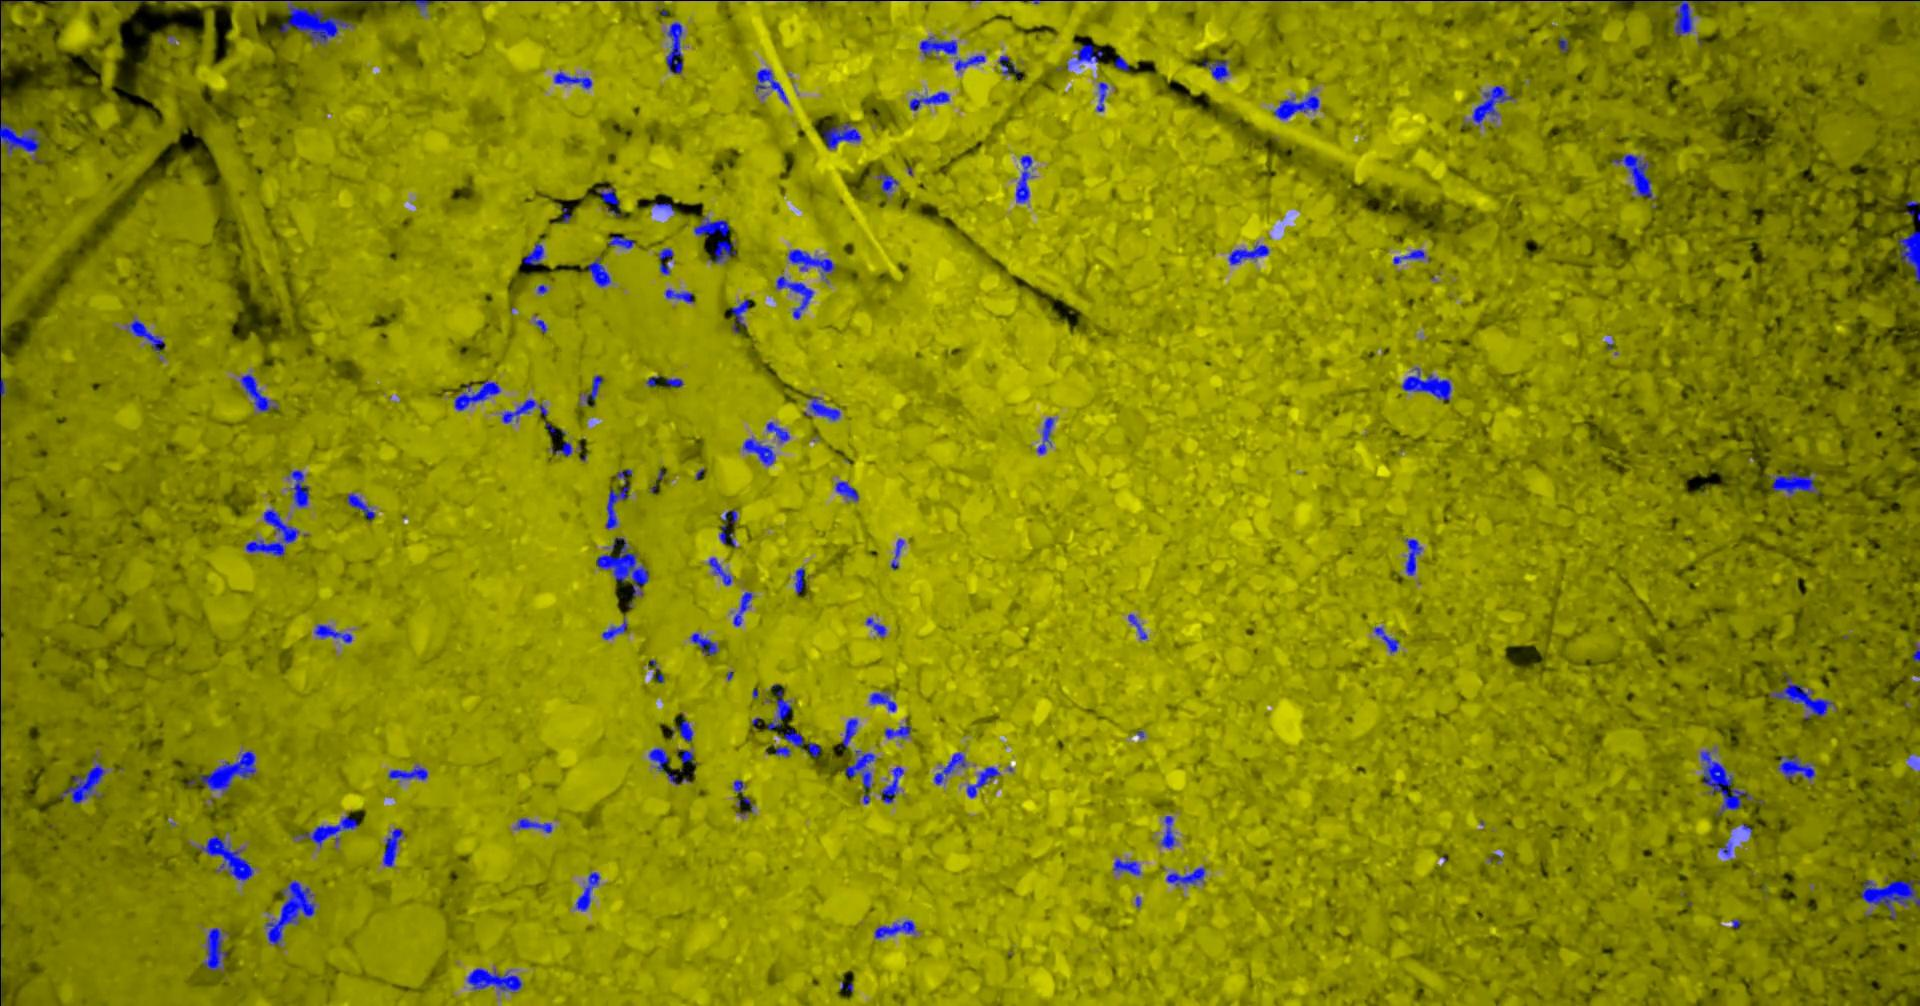ant: (1611, 0, 1719, 36), (1769, 676, 1832, 719), (244, 509, 298, 556), (199, 835, 253, 882), (199, 749, 255, 793), (58, 756, 105, 803), (693, 215, 735, 263), (295, 815, 357, 847), (1611, 154, 1651, 197), (1401, 367, 1451, 400), (0, 111, 39, 152), (775, 276, 813, 319), (604, 467, 631, 528), (1470, 85, 1512, 123), (844, 749, 874, 803), (453, 380, 500, 410), (240, 373, 277, 412), (466, 967, 521, 991), (126, 319, 164, 352), (787, 249, 834, 276), (1895, 230, 1919, 281), (1272, 94, 1319, 119), (648, 747, 679, 784), (502, 398, 547, 423), (766, 683, 791, 729), (756, 69, 787, 104), (1771, 471, 1818, 494), (933, 752, 966, 784), (202, 927, 226, 970), (783, 728, 820, 756), (822, 122, 860, 149), (966, 766, 999, 796), (1777, 754, 1815, 779), (575, 871, 599, 909), (803, 396, 839, 420), (742, 438, 775, 465), (345, 492, 375, 521), (880, 766, 903, 803), (665, 22, 682, 72), (1228, 244, 1269, 264), (287, 469, 309, 507), (382, 827, 403, 866), (1015, 155, 1031, 202), (908, 91, 949, 111), (919, 36, 956, 56), (874, 920, 916, 937), (1164, 868, 1205, 885), (731, 591, 750, 626), (314, 624, 352, 641), (1373, 626, 1398, 653), (1069, 43, 1102, 64), (587, 257, 610, 286), (709, 558, 731, 586), (690, 633, 717, 655), (598, 187, 620, 216), (552, 71, 590, 88), (730, 298, 748, 333), (601, 616, 627, 639), (1036, 417, 1053, 453), (1404, 539, 1421, 575), (869, 690, 897, 711), (387, 765, 427, 780), (514, 818, 552, 832), (998, 55, 1021, 77), (764, 420, 789, 442), (1203, 60, 1228, 80), (1392, 249, 1429, 263), (1112, 857, 1140, 875), (522, 243, 543, 265), (670, 719, 692, 742), (834, 480, 858, 500), (585, 375, 602, 404), (841, 718, 857, 747), (954, 55, 984, 70), (877, 171, 898, 194), (657, 246, 673, 274), (1161, 815, 1175, 848), (1128, 614, 1145, 639), (865, 617, 886, 636), (664, 288, 693, 302), (717, 525, 735, 547), (890, 539, 903, 569), (884, 724, 910, 738), (607, 235, 634, 248), (1096, 81, 1107, 111), (399, 0, 434, 9), (551, 441, 571, 456), (794, 567, 805, 593), (1905, 199, 1919, 221), (1114, 56, 1129, 71), (721, 509, 737, 523), (679, 749, 695, 763), (1719, 841, 1731, 856), (775, 746, 790, 756), (1558, 36, 1567, 51), (665, 379, 683, 386), (0, 377, 5, 401)
